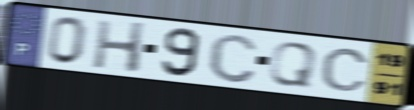0: (45, 14, 90, 66)
9: (161, 26, 202, 78)
C: (206, 31, 260, 85), (320, 47, 371, 93)
H: (90, 18, 148, 75)
Q: (266, 40, 320, 90)
